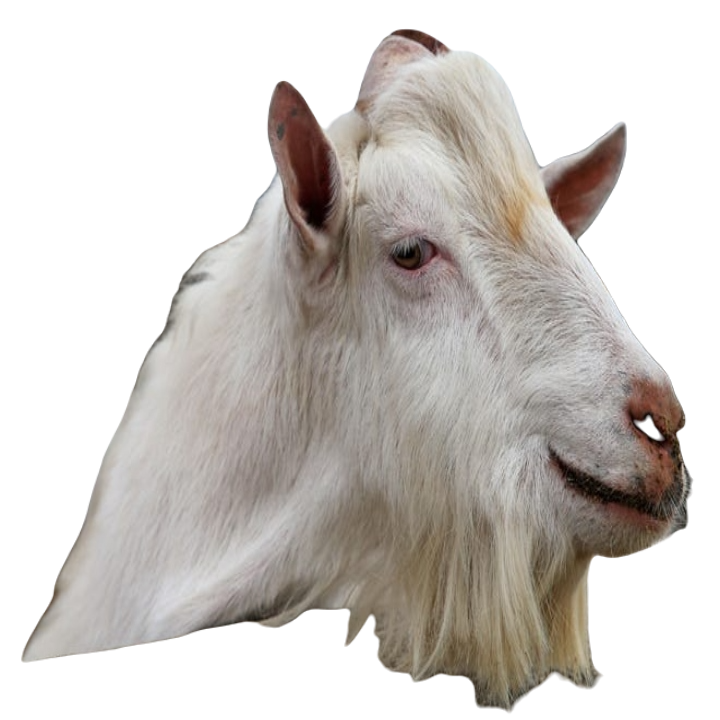Goat: (19, 26, 695, 709)
